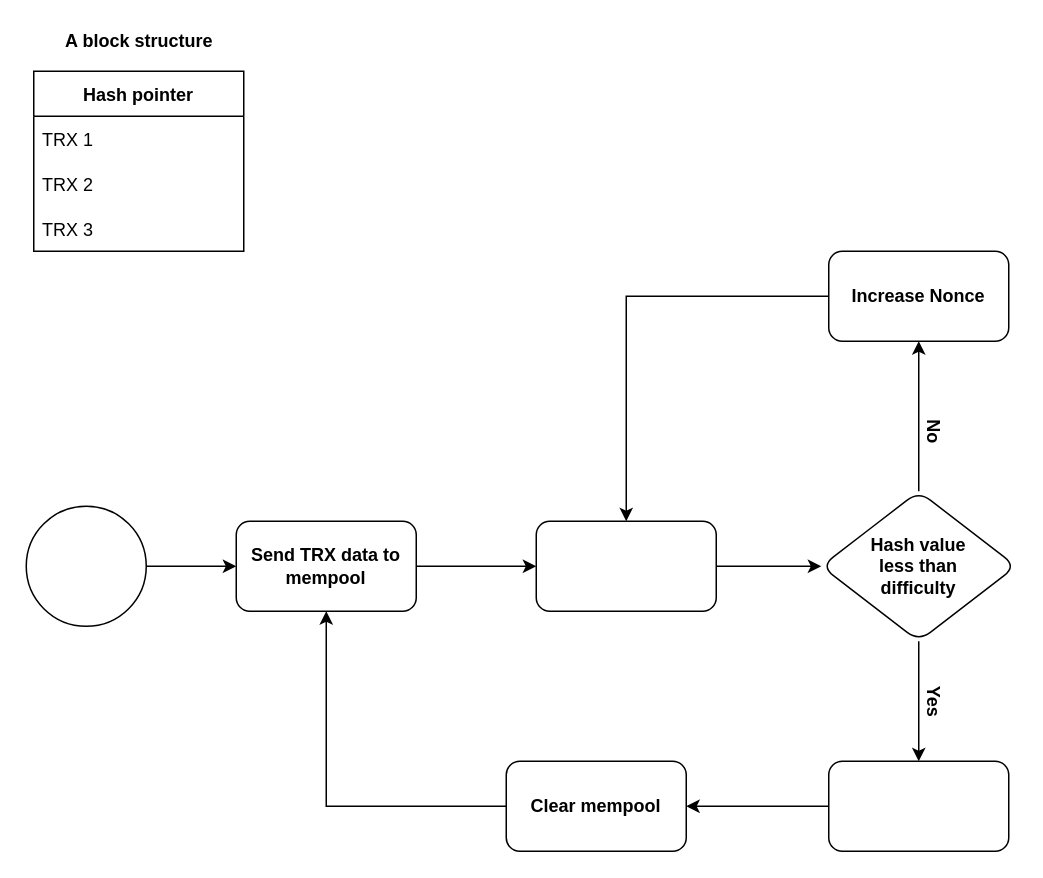
The diagram is 1043 pixels wide and 878 high, and some of its shapes have lost their labels. Here are the shapes that lost their labels. From the top down, the centre of each, then its label:
At (x=85, y=565): "Start".
At (x=625, y=565): "Hash mempool, Own address, Nonce value".
At (x=918, y=805): "Inform others, Take reward".
